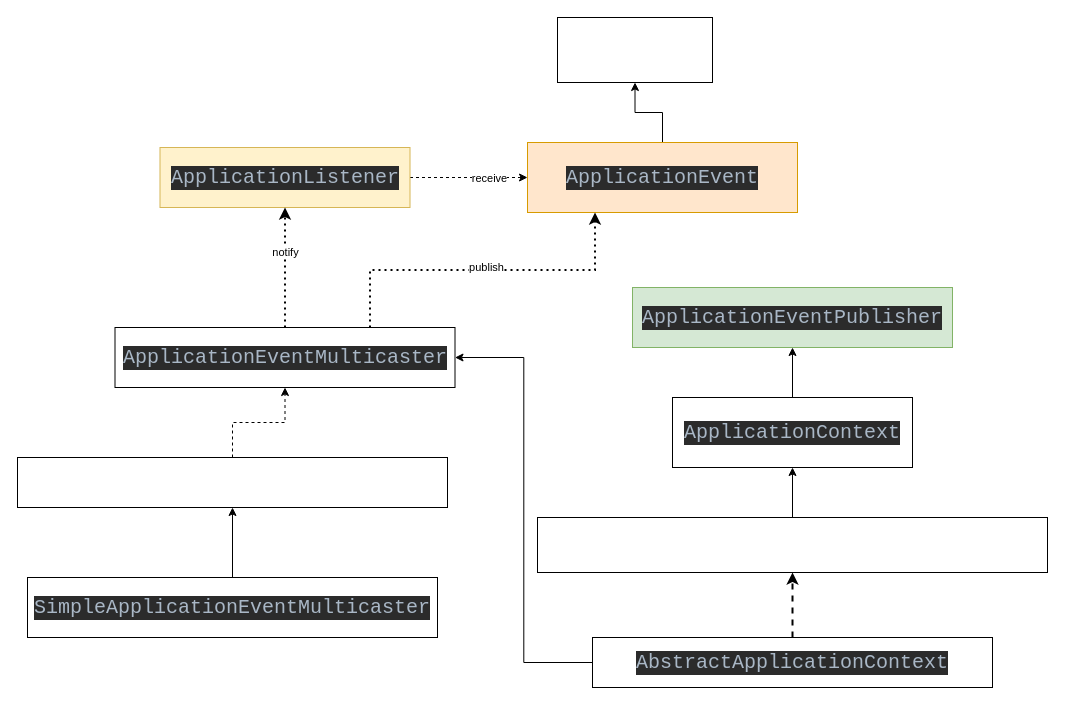
This 1065x712 diagram has some shape labels left out. The centre of each missing label's shape, as x and y in pixels:
"AbstractApplicationEventMulticaster" goes at (x=232, y=482).
"ConfigurableApplicationContext" goes at (x=792, y=544).
"EventObject" goes at (x=634, y=49).
